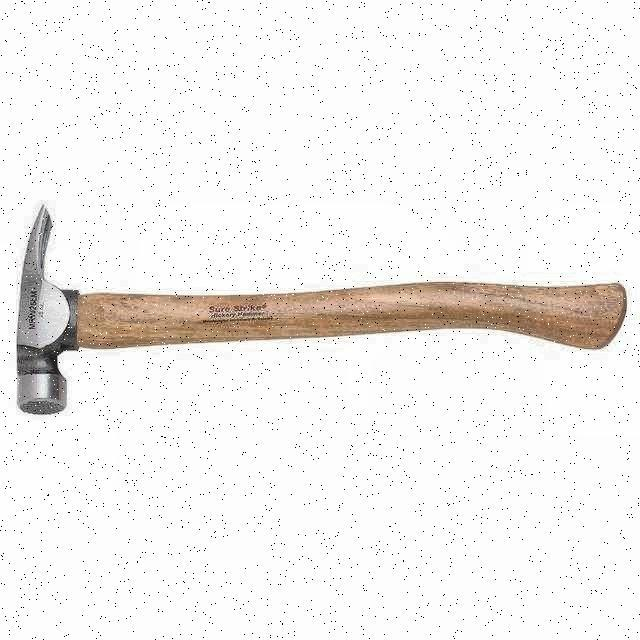hammer: (14, 203, 630, 415)
